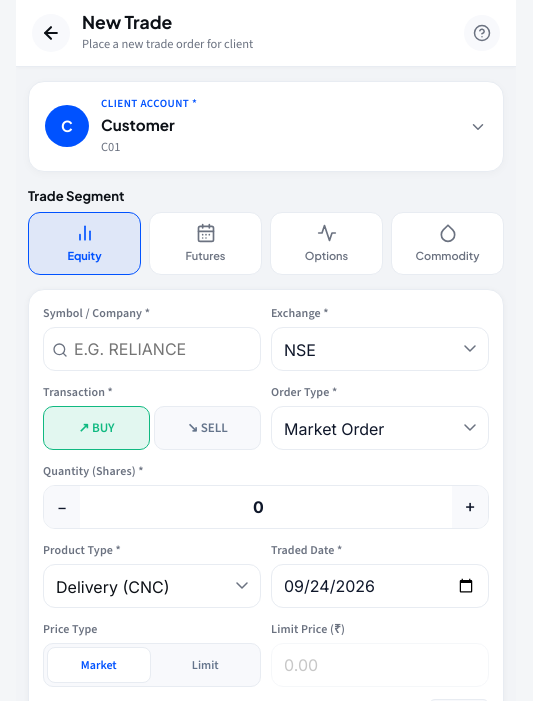
Test: invalid quantity  never submits
This screenshot has width=533, height=701.
Clear the number field named "Quantity" at (266,507), box [80, 494, 452, 520]
(page scrolled)
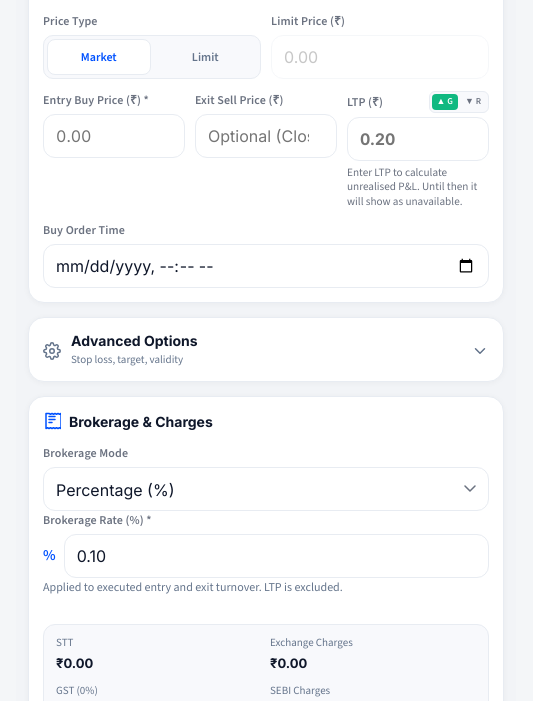
Submit the form named "Quantity"
(page scrolled)
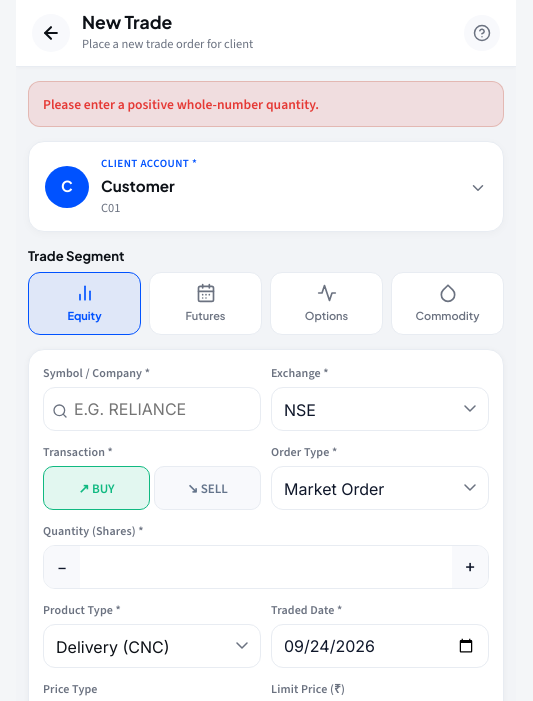
Expected: the text "Please enter a positive whole-number quantity." is shown, [28, 81, 504, 127]
